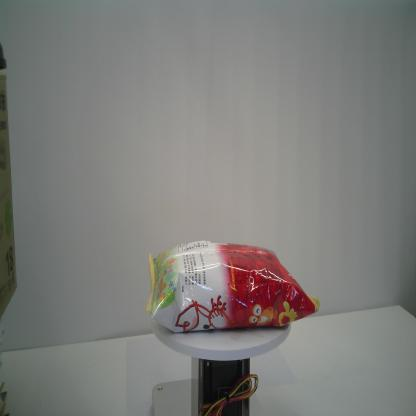Puffed Food: (141, 237, 322, 334)
